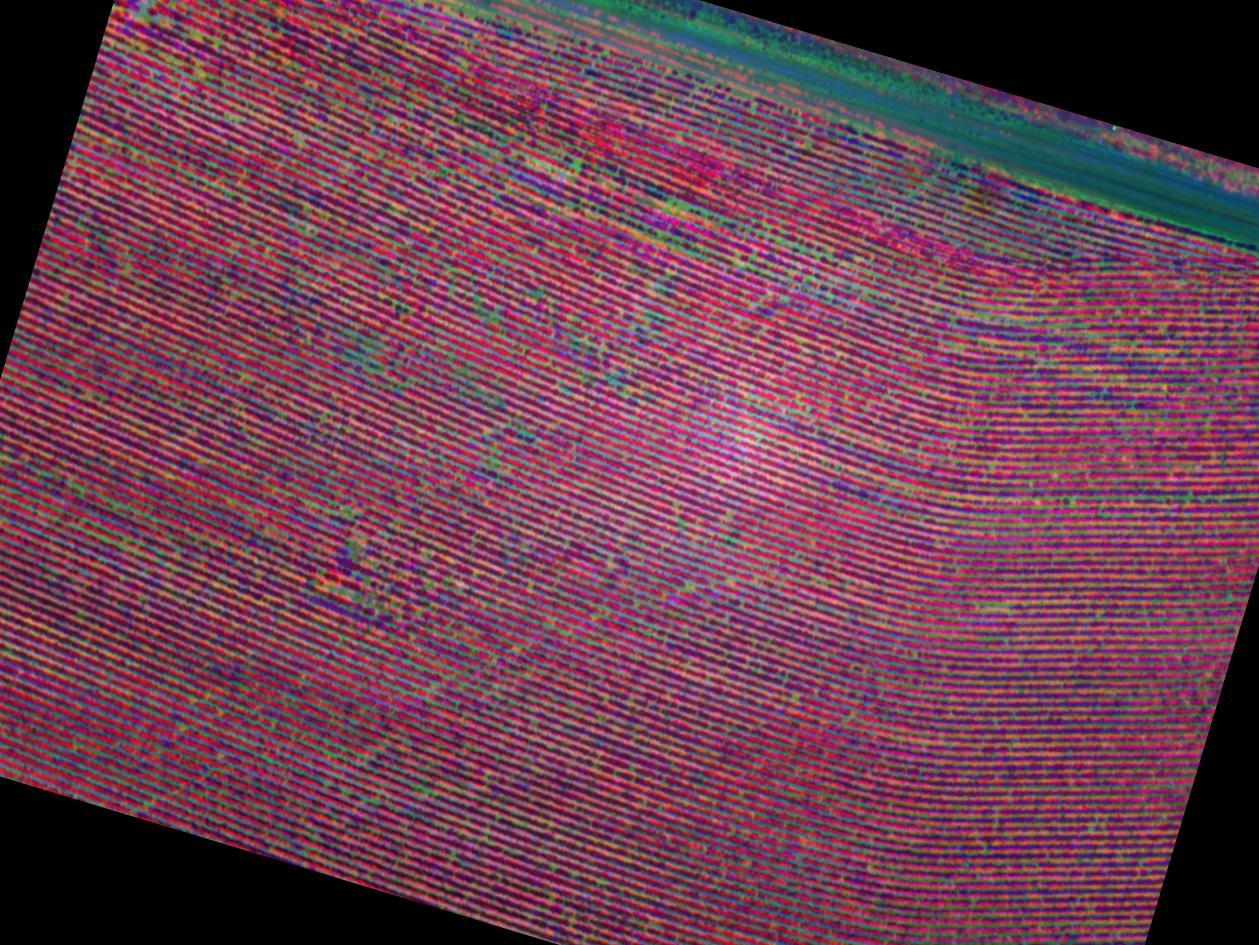dc: (345, 308, 459, 414), (653, 196, 798, 273), (477, 116, 603, 201)
